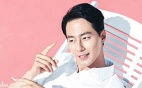male: (55, 3, 116, 79)
